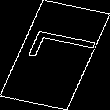L_E: (12, 33, 98, 77)
